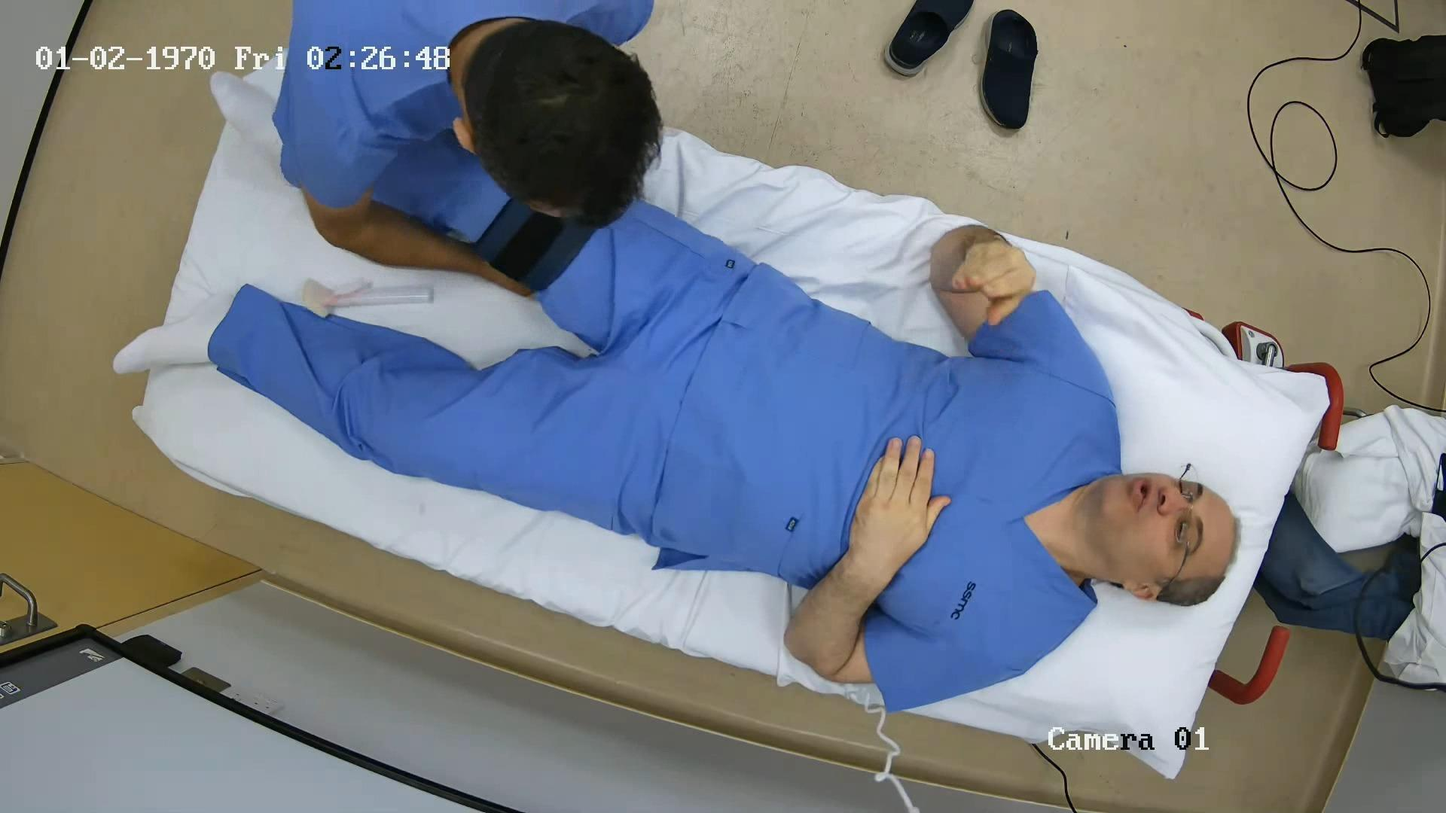patient: (208, 202, 1236, 708)
tourniquet: (471, 200, 596, 293)
